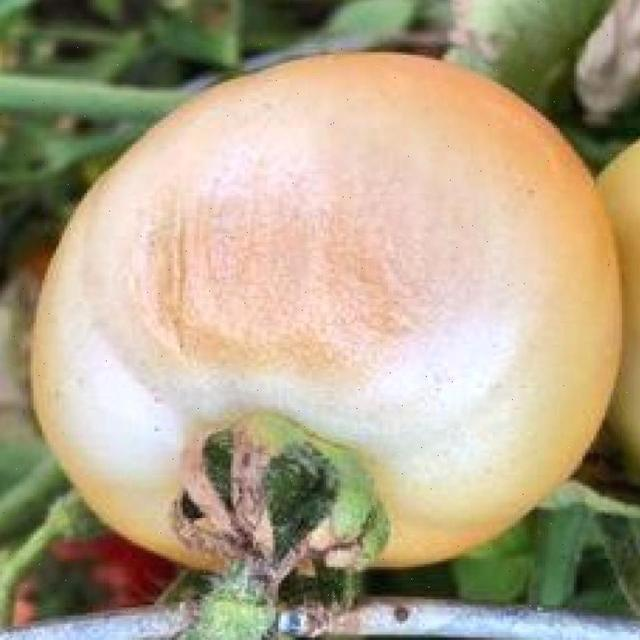Sunscald Fruit: (70, 62, 339, 275)
